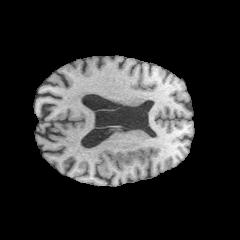glioma: (98, 147, 151, 170)
